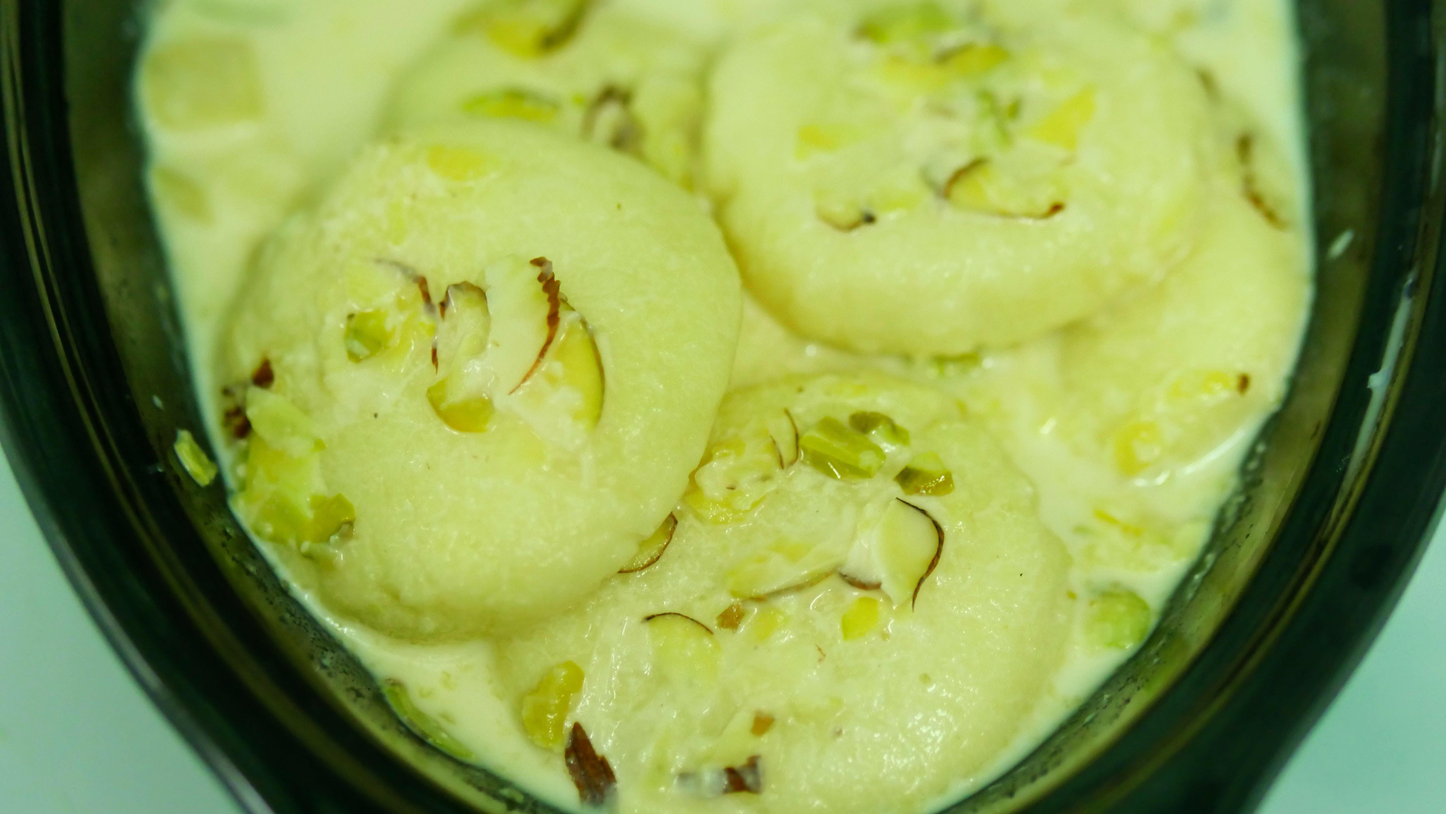RasMalai: (133, 0, 1321, 814)
